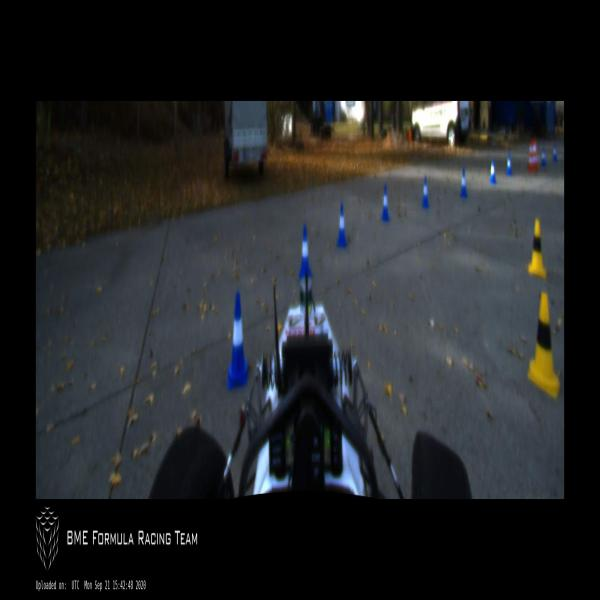blue_cone: (228, 291, 248, 386), (300, 224, 312, 278), (337, 203, 347, 247), (382, 184, 389, 221), (460, 168, 467, 198), (422, 179, 429, 208), (489, 159, 496, 184), (506, 153, 512, 174), (541, 147, 546, 166), (554, 146, 558, 162)
large_orange_cone: (528, 138, 535, 171), (533, 137, 538, 169)
yellow_cone: (528, 292, 560, 397), (529, 219, 545, 276)
